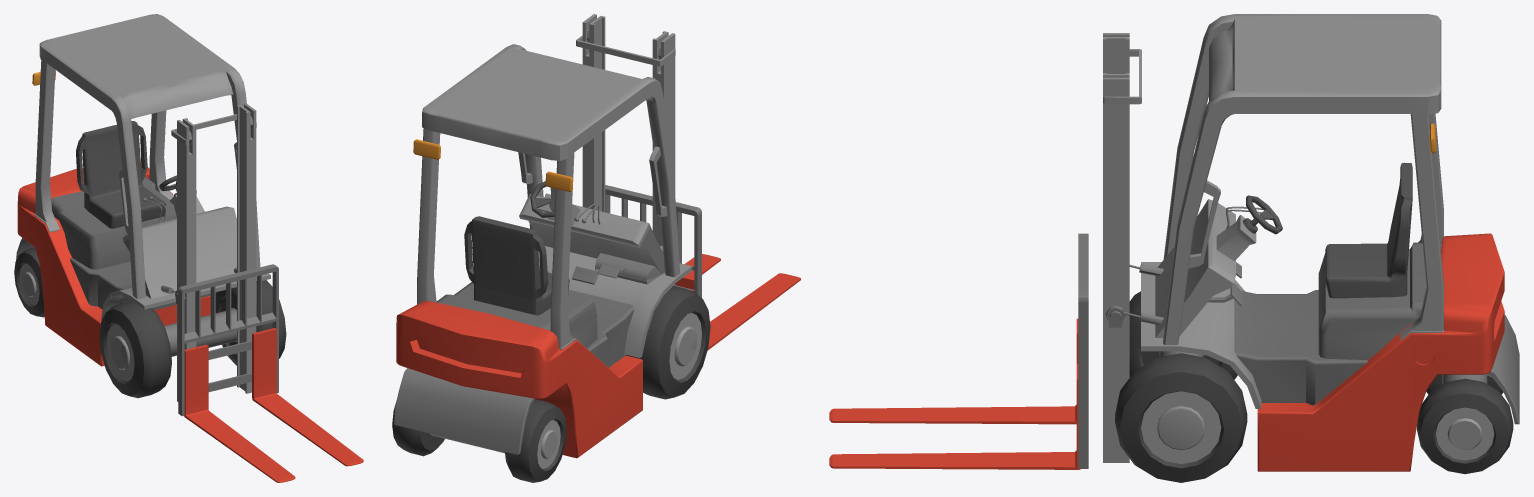
File: Forklift.gltf
The picture shows the model from 3 angles, left to right: view 1: azimuth 30°, elevation 25°; view 2: azimuth 150°, elevation 25°; view 3: azimuth 270°, elevation 25°; orthographic projection. The views are drawn at different scales.
Visible parts, largest first — view 1: body, wheel_20, wheel_1, wheel_21, wheel_13, wheel_19, wheel_5, wheel_23, wheel_3; view 2: body, wheel_20, wheel_21, wheel_4, wheel_5, wheel_9, wheel_23, wheel_2, wheel_19, wheel_3, wheel_7; view 3: body, wheel_14, wheel_13, wheel_16, wheel_10, wheel_9, wheel_0, wheel_12, wheel_20, wheel_15, wheel_19.
Part boxes in pixels (<box>): body: <box>16,14,363,482</box>; wheel_20: <box>107,300,171,398</box>; wheel_1: <box>182,267,278,416</box>; wheel_21: <box>99,309,144,396</box>; wheel_13: <box>215,280,286,365</box>; wheel_19: <box>178,264,277,415</box>; wheel_5: <box>14,252,44,316</box>; wheel_23: <box>106,324,134,381</box>; wheel_3: <box>111,335,129,370</box>; body: <box>394,14,800,459</box>; wheel_20: <box>626,285,701,399</box>; wheel_21: <box>658,295,710,397</box>; wheel_4: <box>507,399,560,482</box>; wheel_5: <box>528,407,566,481</box>; wheel_9: <box>392,402,444,456</box>; wheel_23: <box>669,312,701,379</box>; wheel_2: <box>605,189,697,294</box>; wheel_19: <box>605,185,701,297</box>; wheel_3: <box>674,326,697,366</box>; wheel_7: <box>537,420,560,468</box>; body: <box>829,14,1519,471</box>; wheel_14: <box>1120,372,1242,482</box>; wheel_13: <box>1115,353,1247,478</box>; wheel_16: <box>1141,391,1221,464</box>; wheel_10: <box>1420,393,1509,474</box>; wheel_9: <box>1417,378,1513,461</box>; wheel_0: <box>1157,406,1204,450</box>; wheel_12: <box>1436,407,1494,460</box>; wheel_20: <box>1129,291,1237,379</box>; wheel_15: <box>1138,390,1223,468</box>; wheel_19: <box>1078,233,1088,297</box>.
Bounding box in the file's own units: 1.19 × 2.16 × 3.51.
1 material, 1 textured.
